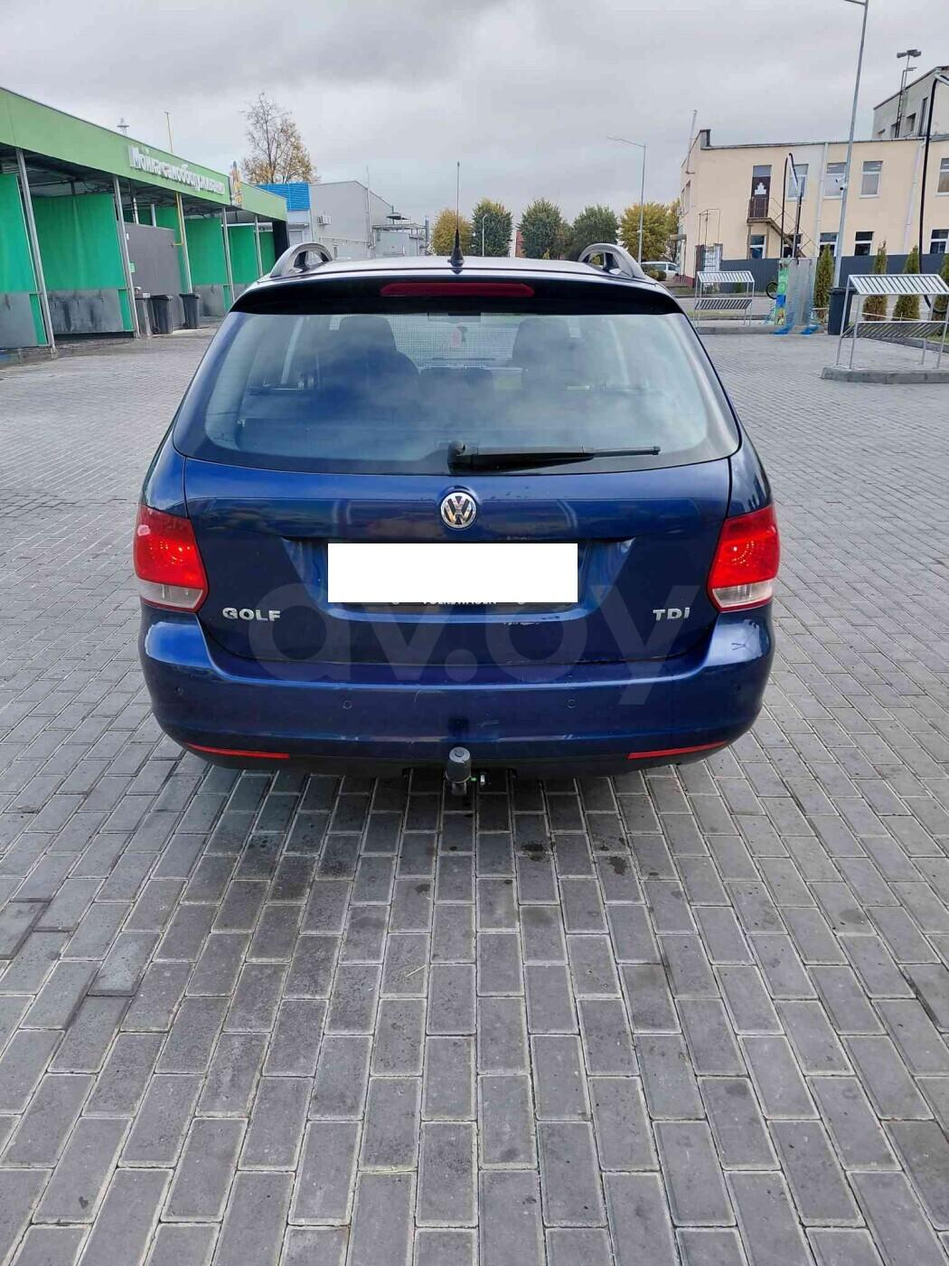Golf_2003-2009: (120, 247, 800, 815)
